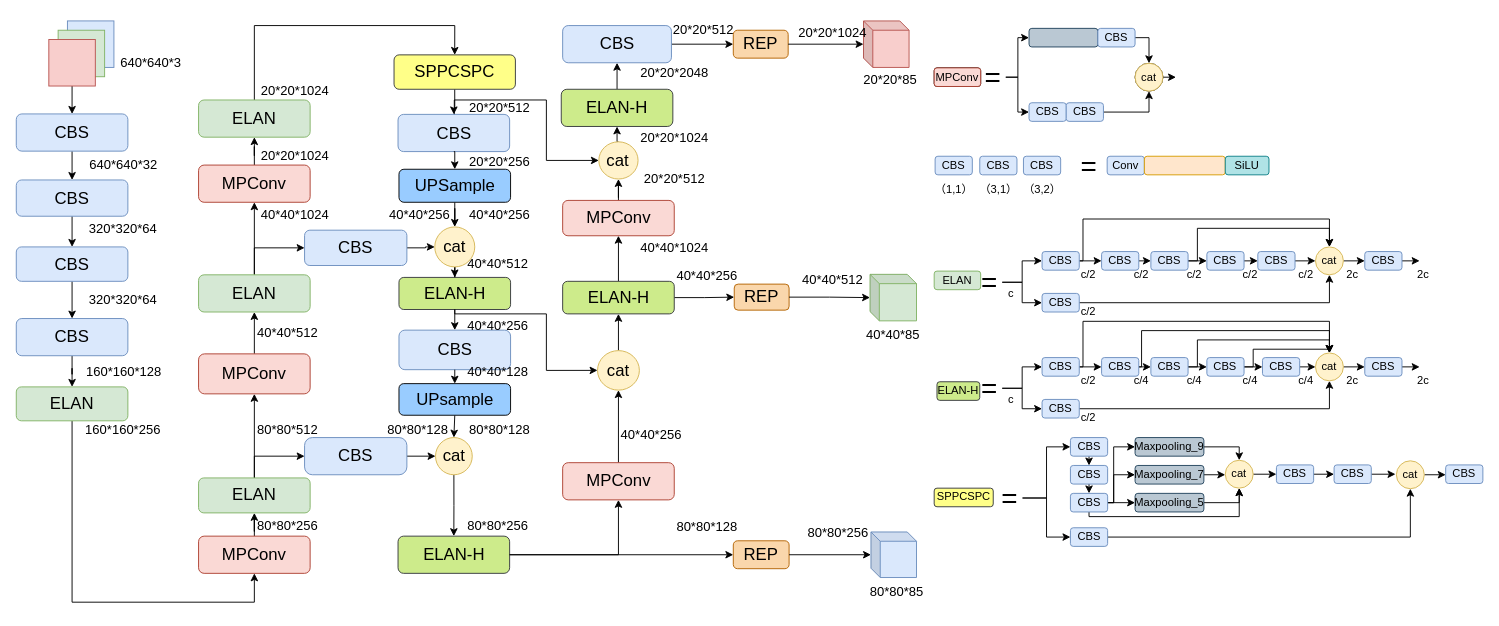
This 1499x626 diagram has some shape labels left out. Each missing label, with the centre of its shape:
"BatchNorm" goes at point 1184,165.
"Maxpooling_3" goes at point 1063,37.
